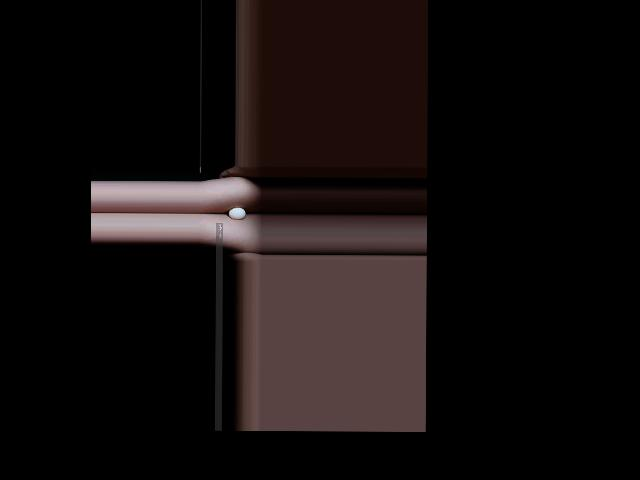egg: (228, 207, 245, 220)
